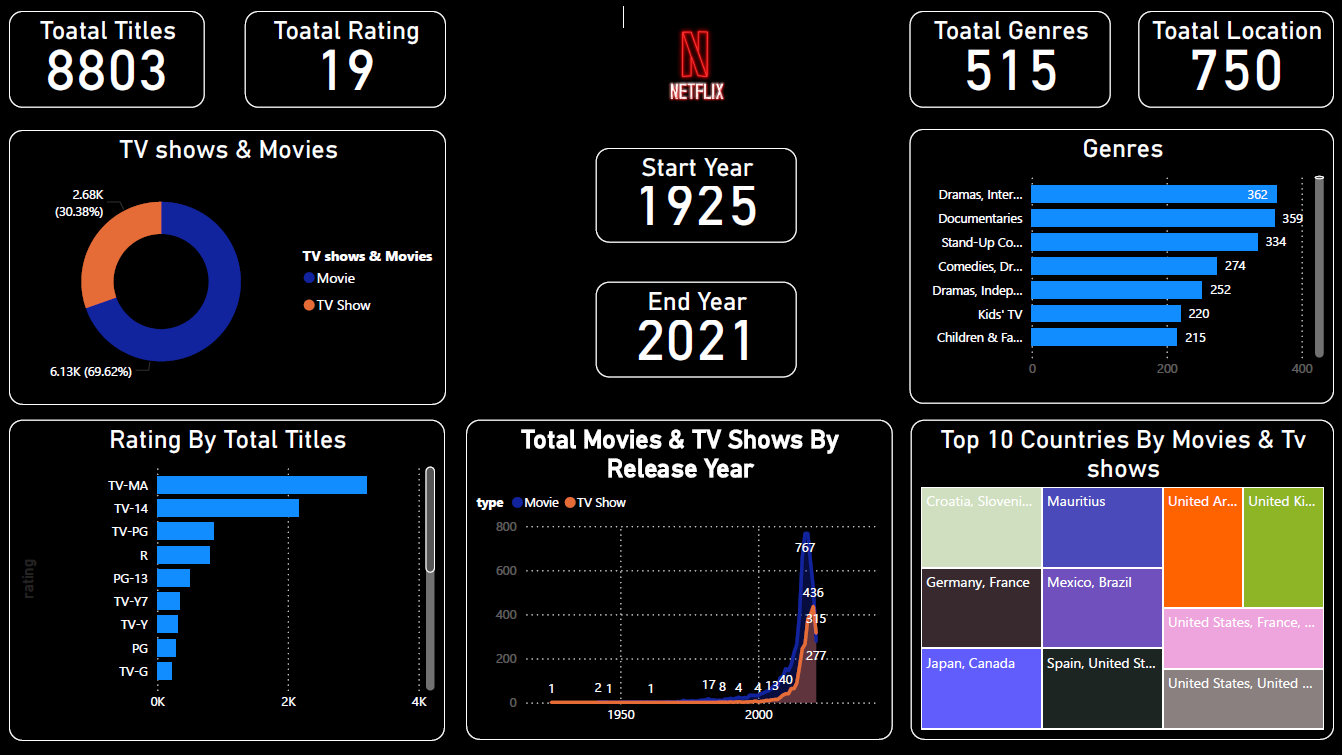

The dashboard page shown, as its layout file describes it:
{"tool":"powerbi","page":{"name":"Page 1","canvas":[1280,720],"ordinal":0},"visuals":[{"type":"donutChart","title":"TV shows & Movies","fields":{"Category":["netflix_titles.type"],"Y":["CountNonNull(netflix_titles.show_id)"]},"box":[10.9,125.5,415,260.6],"z":0},{"type":"barChart","title":"Genres","fields":{"Category":["netflix_titles.listed_in"],"Y":["CountNonNull(netflix_titles.show_id)"]},"box":[866.2,124.3,403,260.6],"z":1000},{"type":"barChart","title":"Rating By Total Titles","fields":{"Category":["netflix_titles.rating"],"Y":["Count(netflix_titles.show_id)"]},"box":[10.9,399.9,414.5,305.1],"z":2000},{"type":"areaChart","title":"Total Movies & TV Shows By Release Year","fields":{"Category":["netflix_titles.release_year"],"Y":["Count(netflix_titles.show_id)"],"Series":["netflix_titles.type"]},"box":[444.9,399.9,404.8,303.9],"z":3000},{"type":"treemap","title":"Top 10 Countries By Movies & Tv shows","fields":{"Group":["netflix_titles.country"],"Values":["CountNonNull(netflix_titles.show_id)"]},"box":[866.7,399.9,402.4,303.9],"z":4000},{"type":"card","title":"Toatal Titles","fields":{"Values":["Count(netflix_titles.title)"]},"box":[10.9,12.1,185.8,91.7],"z":5000},{"type":"card","title":"Toatal Rating","fields":{"Values":["Count(netflix_titles.rating)"]},"box":[217.2,12.1,190.6,91.7],"z":6000},{"type":"card","title":"Toatal Genres","fields":{"Values":["Count(netflix_titles.listed_in)"]},"box":[866.2,12.1,176.1,91.7],"z":7000},{"type":"card","title":"Toatal Location","fields":{"Values":["Count(netflix_titles.country)"]},"box":[1084.6,12.1,185.8,91.7],"z":8000},{"type":"card","title":"Start Year","fields":{"Values":["Min(netflix_titles.release_year)"]},"box":[583.5,149.5,160.5,90],"z":9000},{"type":"card","title":"End Year","fields":{"Values":["Max(netflix_titles.release_year)"]},"box":[583.5,268.6,160.5,91.2],"z":10000},{"type":"image","box":[513,0,300.2,125.2],"z":11000}]}

Visuals, with their boxes in screenshot pixels (x1, y1, x2, y2), scaled from the page's 1280x720 canvas onto the 1342x755 screenshot:
"TV shows & Movies" donutChart: (11,132,447,405)
"Genres" barChart: (908,130,1331,404)
"Rating By Total Titles" barChart: (11,419,446,739)
"Total Movies & TV Shows By Release Year" areaChart: (466,419,891,738)
"Top 10 Countries By Movies & Tv shows" treemap: (909,419,1331,738)
"Toatal Titles" card: (11,13,206,109)
"Toatal Rating" card: (228,13,428,109)
"Toatal Genres" card: (908,13,1093,109)
"Toatal Location" card: (1137,13,1332,109)
"Start Year" card: (612,157,780,251)
"End Year" card: (612,282,780,377)
image: (538,0,853,131)
